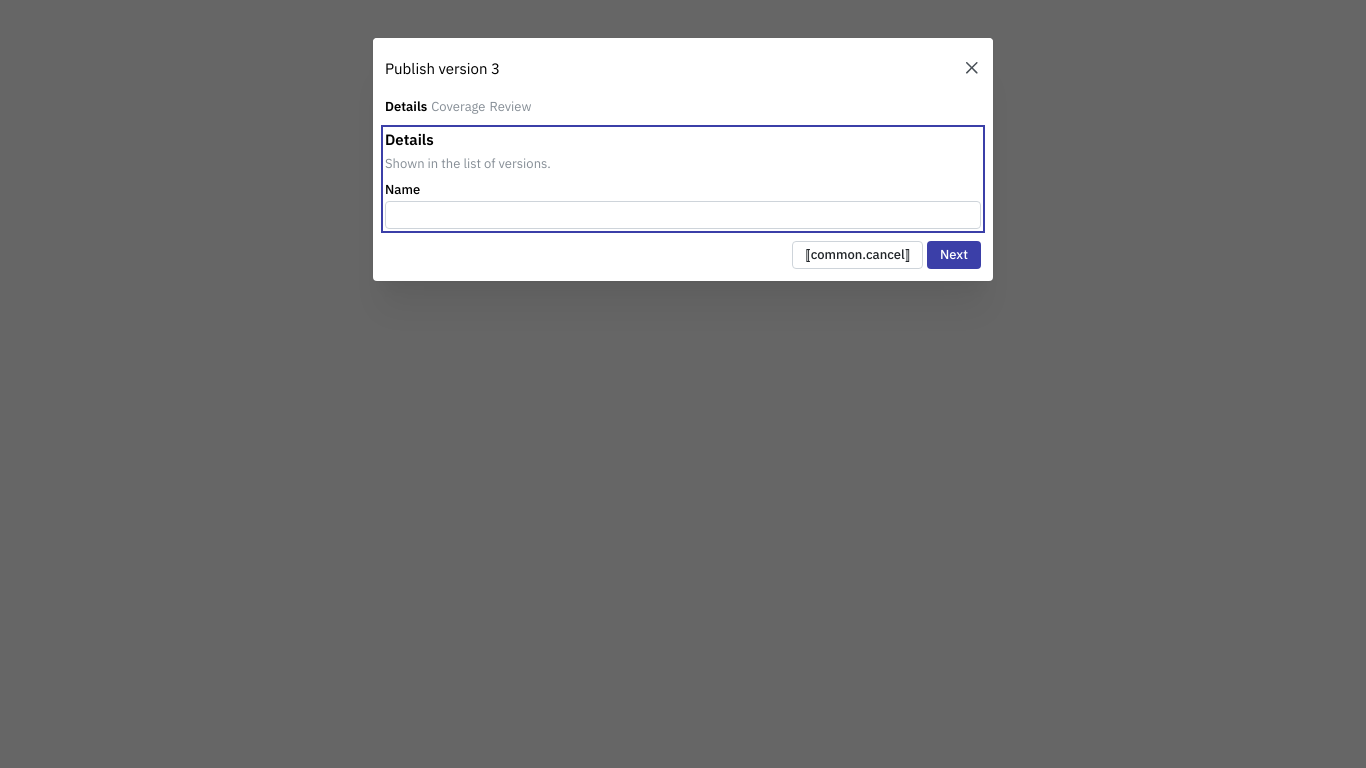
Test: Wizard — крок Review додається САМ › дзеркало: підсумок є — рамка є
Type "Version 3" into the field labelled "Name". click: (683, 215)
box: [385, 201, 981, 229]
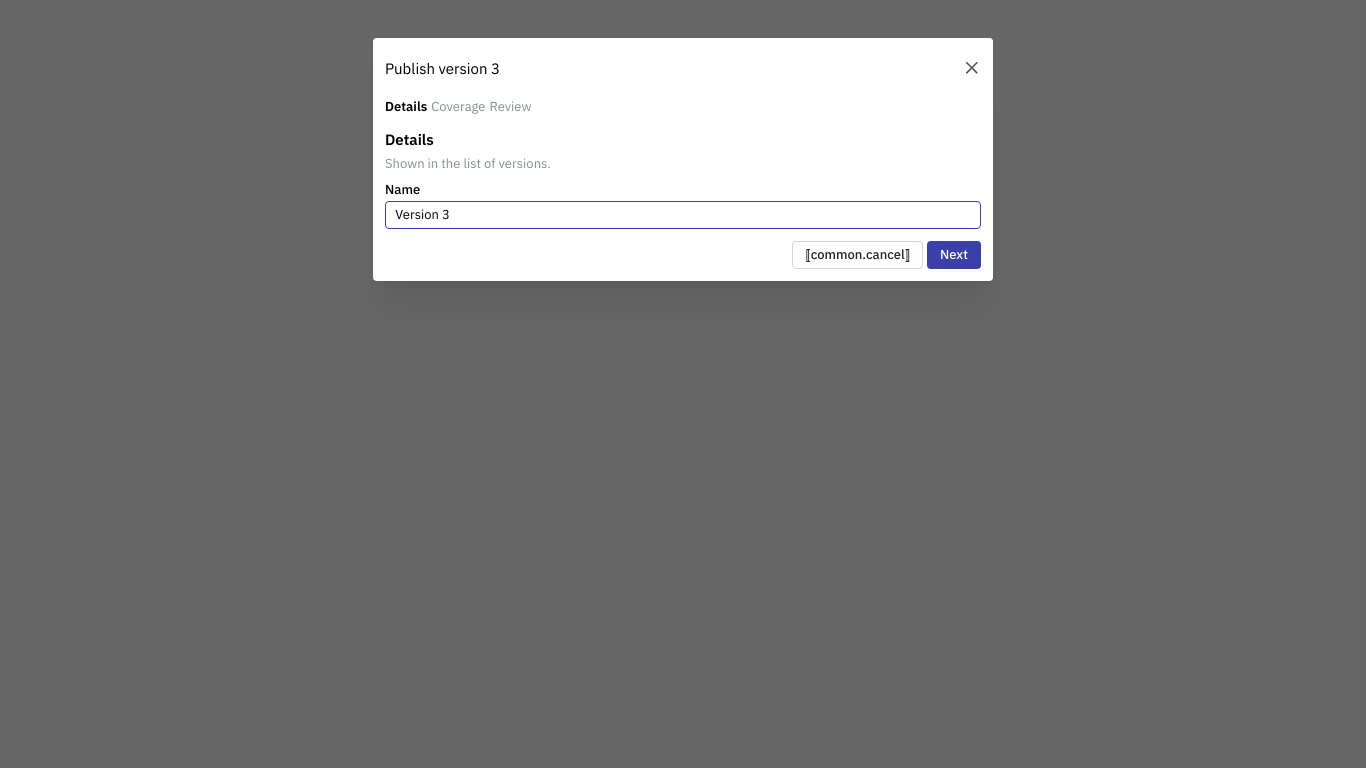
Click the button with test id "wizard-next". click: (954, 255)
box: [927, 241, 981, 269]
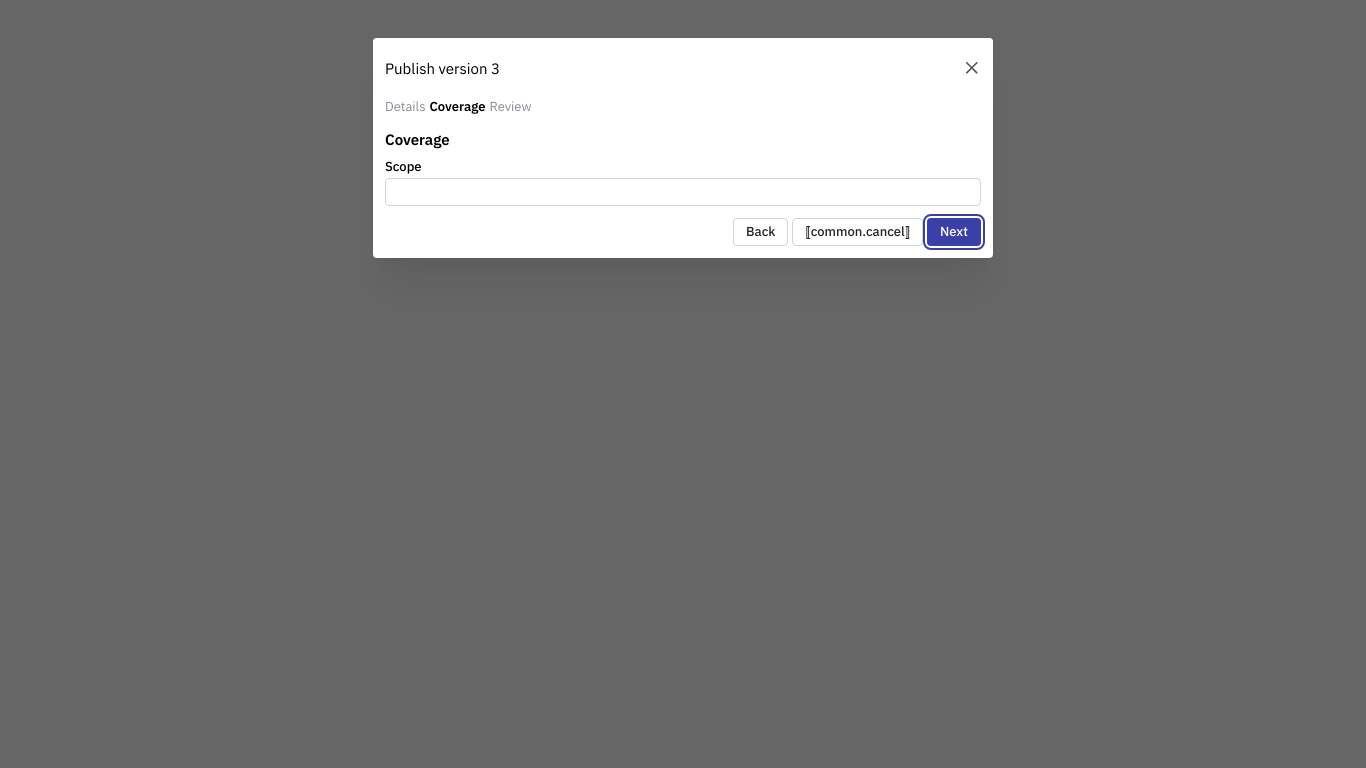
Click the button with test id "wizard-next". click: (954, 232)
box: [927, 218, 981, 246]
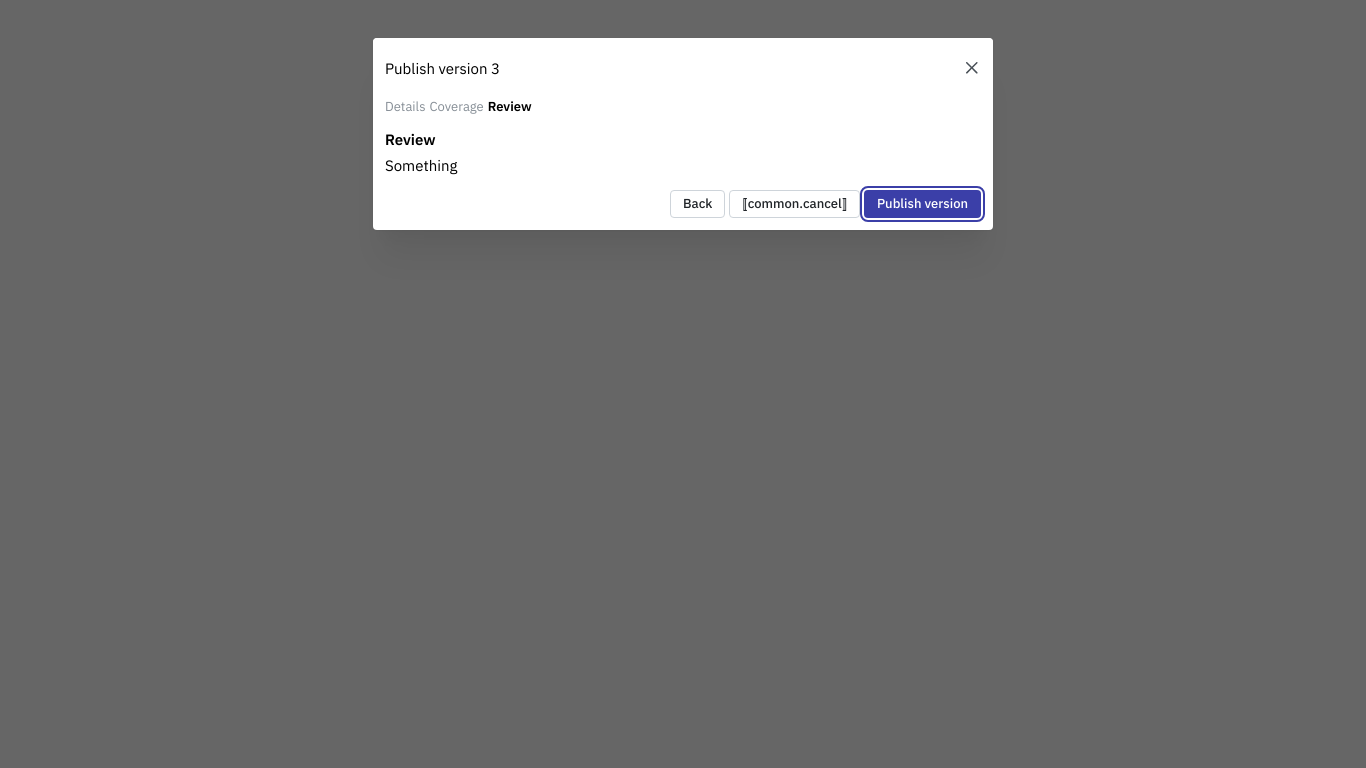
Result: the element with test id "wizard-summary" reads "Something" at [385, 157, 457, 176]
